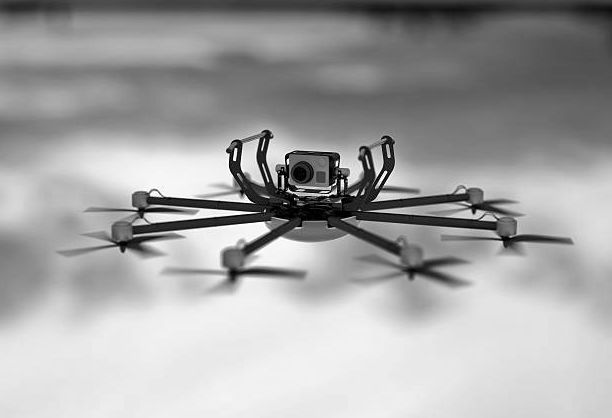Drone: (48, 124, 580, 295)
